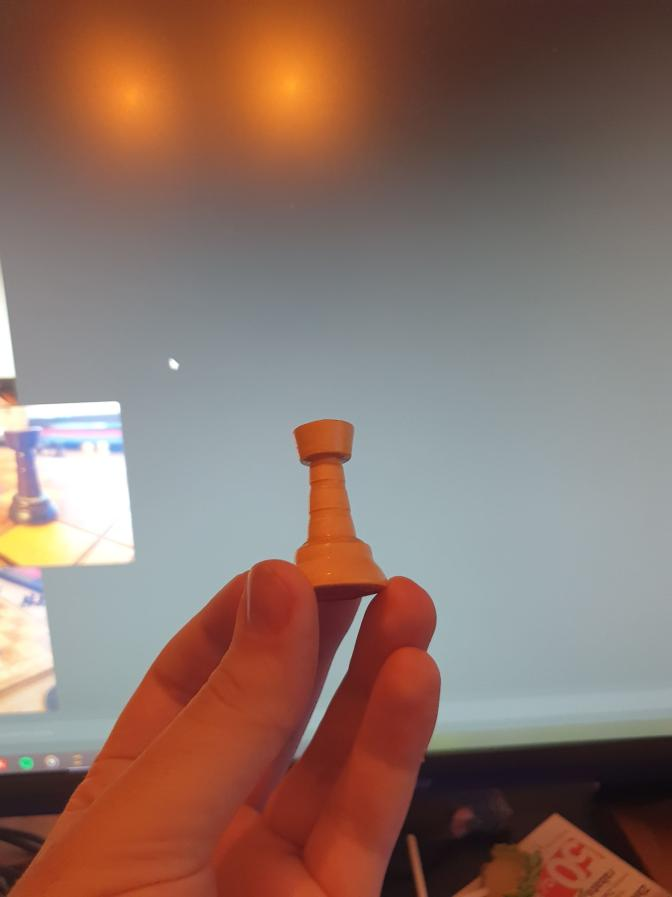wrook: (290, 419, 386, 583)
